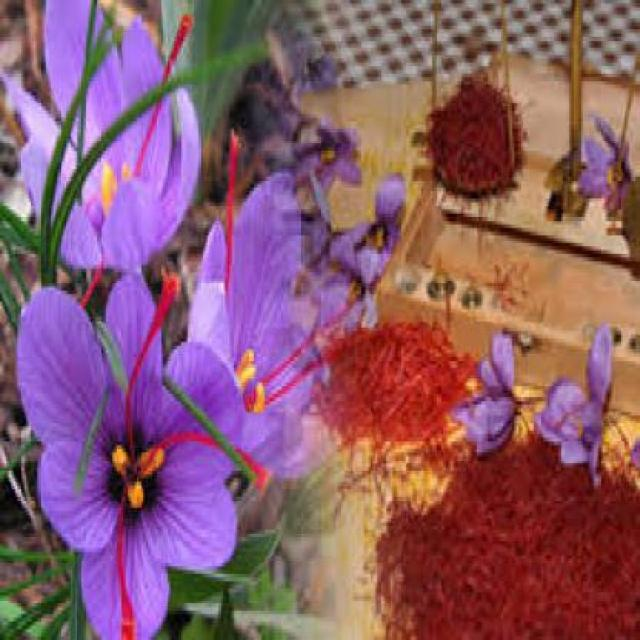saffron open: (19, 273, 235, 636), (2, 0, 200, 284), (189, 172, 320, 471), (454, 331, 514, 456)
